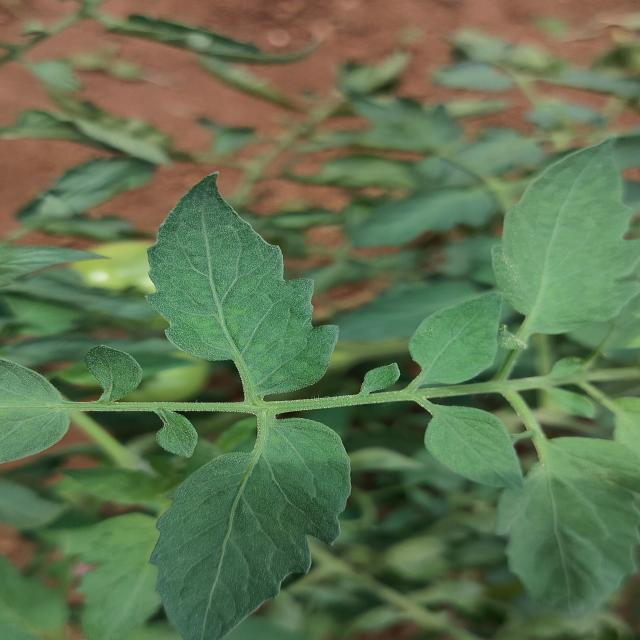tomato_healthy: (149, 416, 350, 640), (148, 174, 336, 404), (493, 140, 640, 340), (496, 437, 640, 615), (417, 400, 523, 488), (407, 293, 502, 391)
